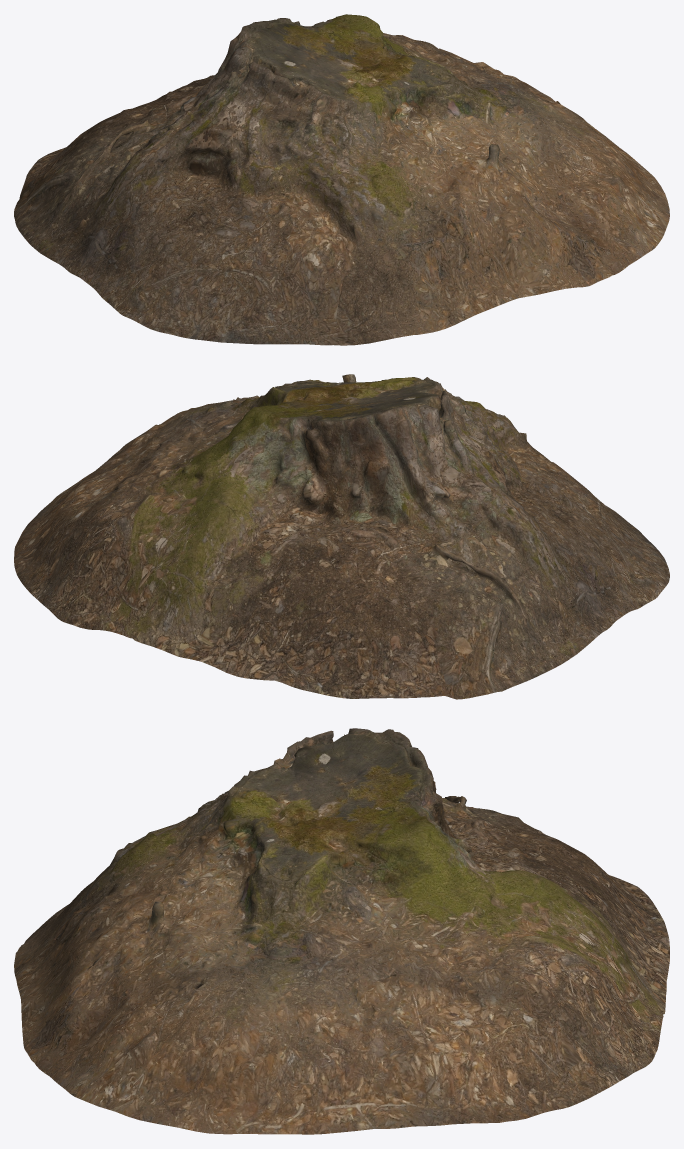
Rendered from prop_stump_b.glb.
3 renders of one model, top to bottom at view 1: azimuth 30°, elevation 25°; view 2: azimuth 150°, elevation 25°; view 3: azimuth 270°, elevation 25°, orthographic. The views are drawn at different scales.
Parts seen in each view (by area): view 1: tree_stump_02; view 2: tree_stump_02; view 3: tree_stump_02.
Boxes of the visible parts, box(x1,y1,x2,y2) form: tree_stump_02: box(14, 14, 669, 345); tree_stump_02: box(14, 374, 669, 699); tree_stump_02: box(14, 728, 669, 1134).
Size of the model in its own units: 1.52 by 0.5229 by 1.39.
Materials: 1 (1 with a texture image).
